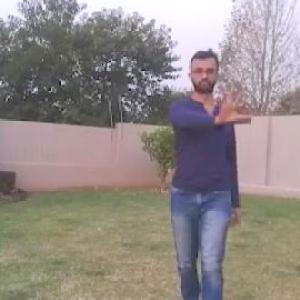follow_hand: (210, 79, 250, 123)
